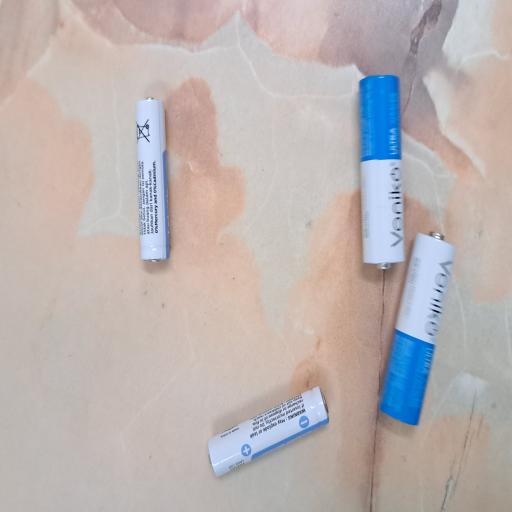battery: (25, 276, 96, 438), (184, 179, 314, 227), (180, 476, 329, 512)
